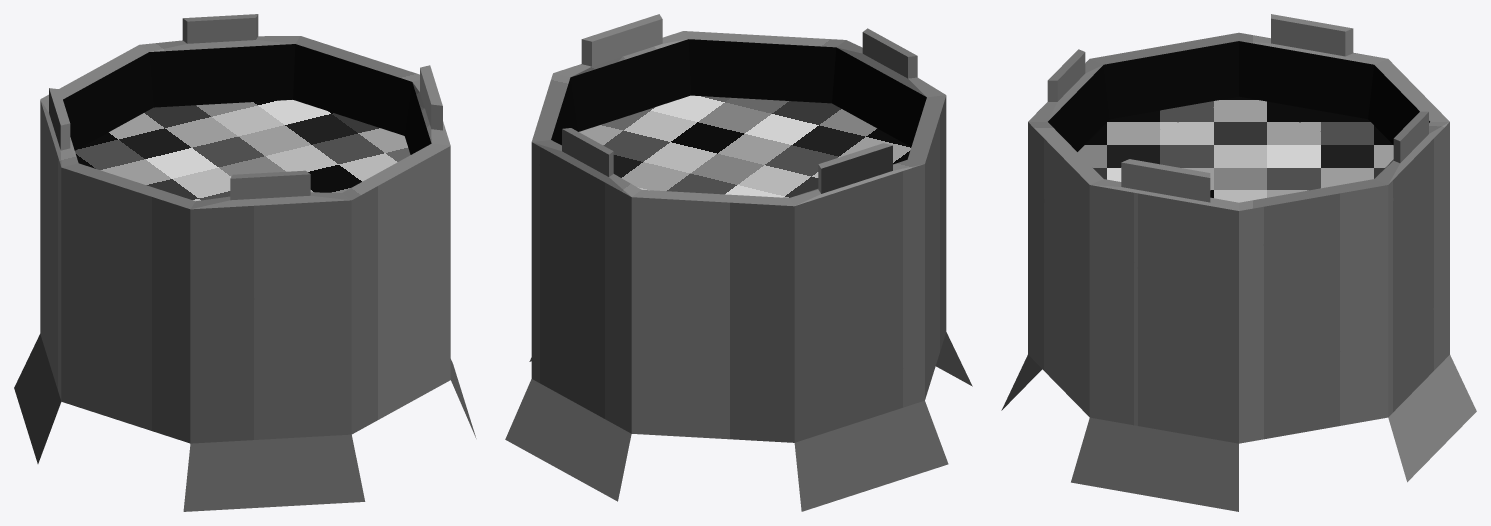
The model's file is lab_burner_307x00.gltf.
3 views of the same model, side by side, from view 1: azimuth 30°, elevation 25°; view 2: azimuth 150°, elevation 25°; view 3: azimuth 270°, elevation 25° (orthographic).
Visible parts, largest first — view 1: Lab_burner_307x00; view 2: Lab_burner_307x00; view 3: Lab_burner_307x00.
Boxes of the visible parts, <box> form: Lab_burner_307x00: <box>14,14,476,511</box>; Lab_burner_307x00: <box>505,14,972,511</box>; Lab_burner_307x00: <box>1001,14,1476,511</box>.
Bounding box in the file's own units: 0.7557 × 0.5534 × 0.7557.
1 material, 1 textured.
